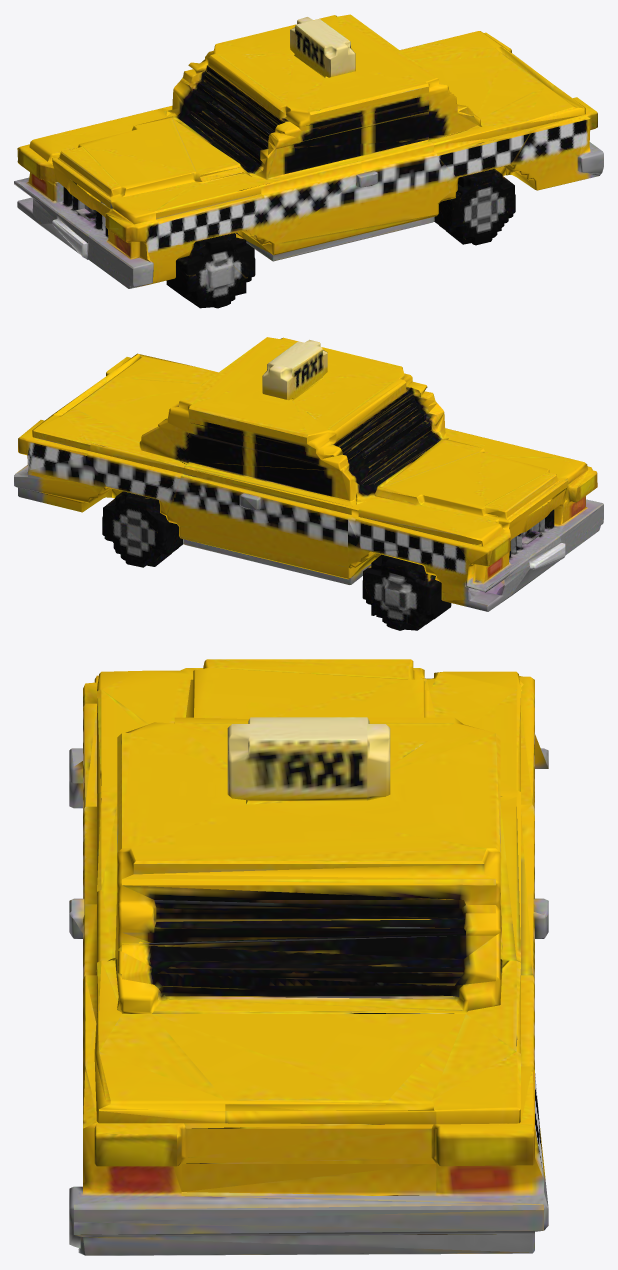
File: taxi.glb
The picture shows the model from 3 angles, top to bottom: view 1: azimuth 30°, elevation 25°; view 2: azimuth 150°, elevation 25°; view 3: azimuth 270°, elevation 25°; orthographic projection. The views are drawn at different scales.
Size of the model in its own units: 1.88 by 0.7476 by 0.818.
Materials: 1 (1 with a texture image).
